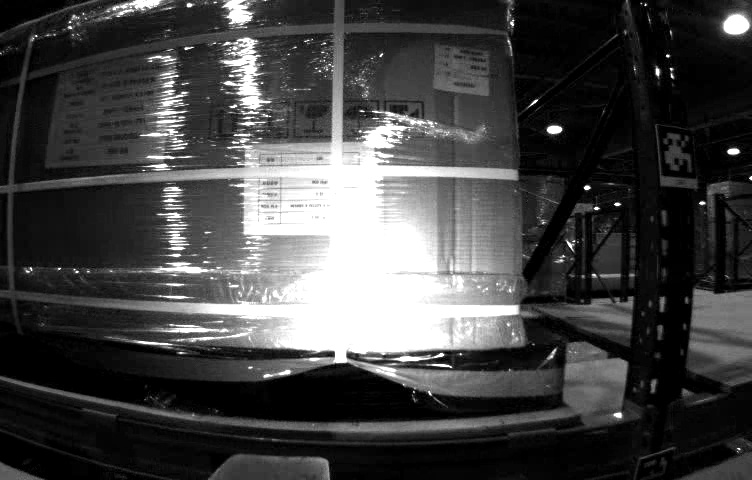True Barcode: (435, 46, 488, 92)
